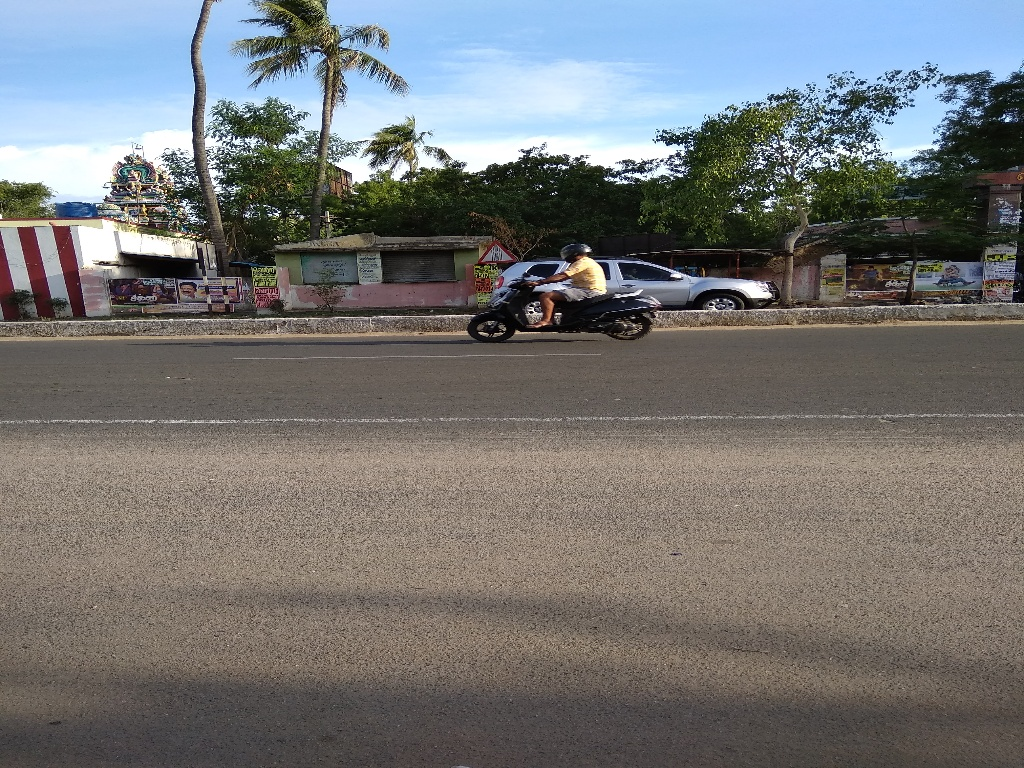biker: (453, 215, 675, 351)
helmet: (554, 233, 601, 273)
